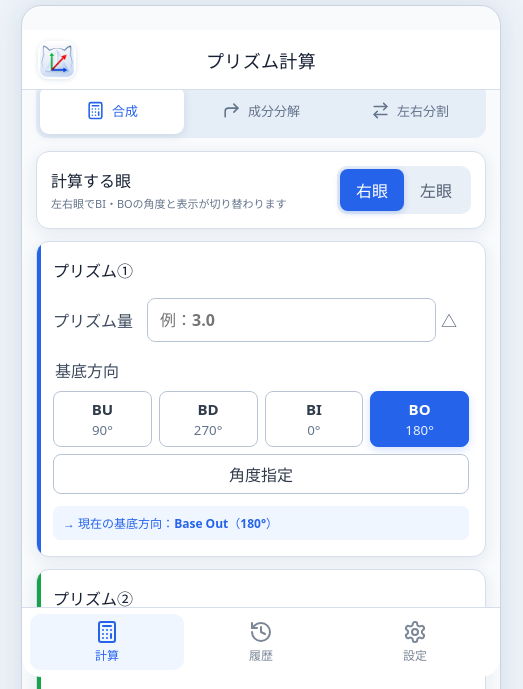
Scenario: CalculatorPage › 左右分割モードで10△・300°を50:50に分割する
The width and height of the screenshot is (523, 689).
Click the tab "左右分割" at (410, 110), box top-left (338, 86), bottom-right (482, 134)
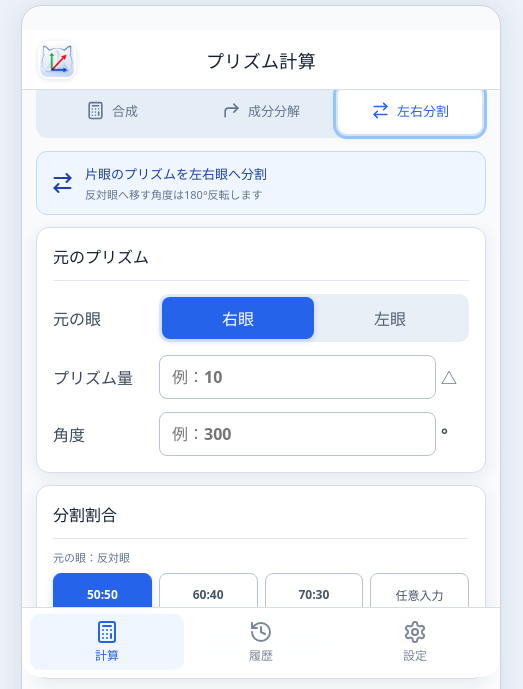
Type "10" into the number field named "分割するプリズム量" at (298, 377), box top-left (159, 355), bottom-right (436, 399)
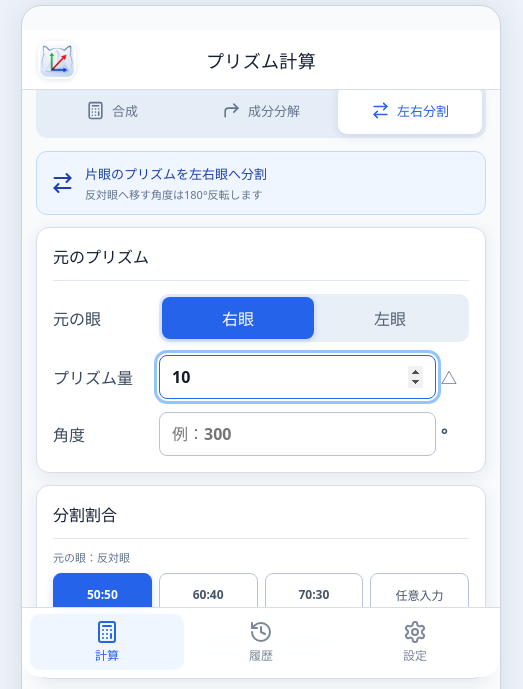
Type "300" into the number field named "分割する角度" at (298, 434), box top-left (159, 412), bottom-right (436, 456)
(page scrolled)
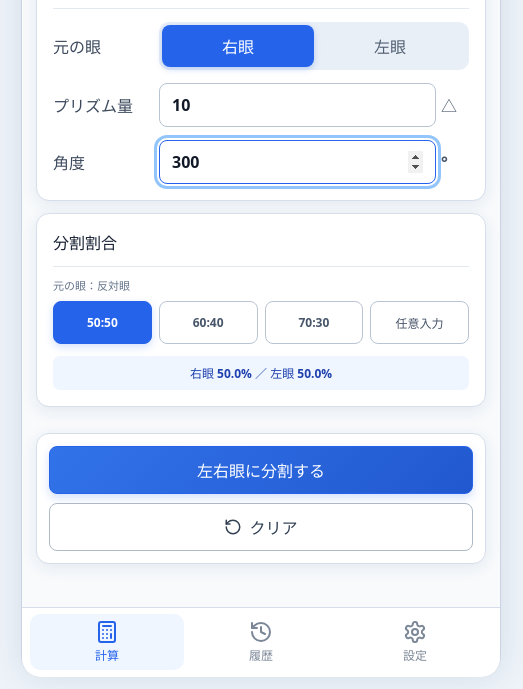
Click the button "左右眼に分割する" at (261, 470), box top-left (49, 446), bottom-right (473, 494)
(page scrolled)
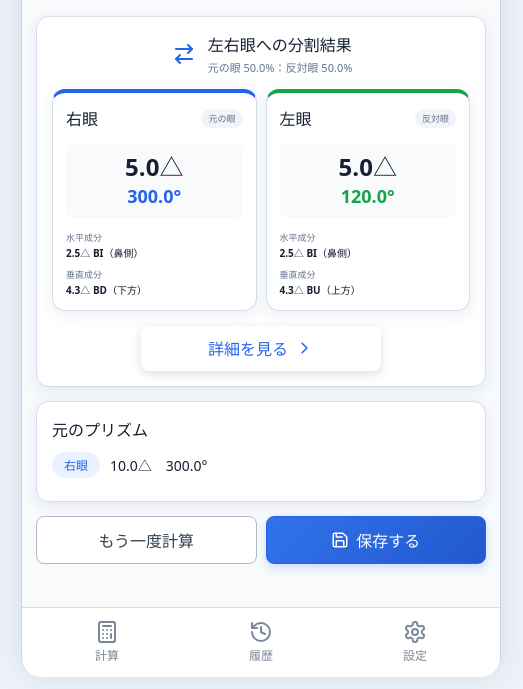
Now the text "300.0°" is shown, box top-left (127, 184), bottom-right (181, 208)
Now the text "120.0°" is shown, box top-left (341, 184), bottom-right (395, 208)
Now the text "5.0△" is shown 2 times, box top-left (125, 153), bottom-right (183, 182); top-left (339, 153), bottom-right (397, 182)
